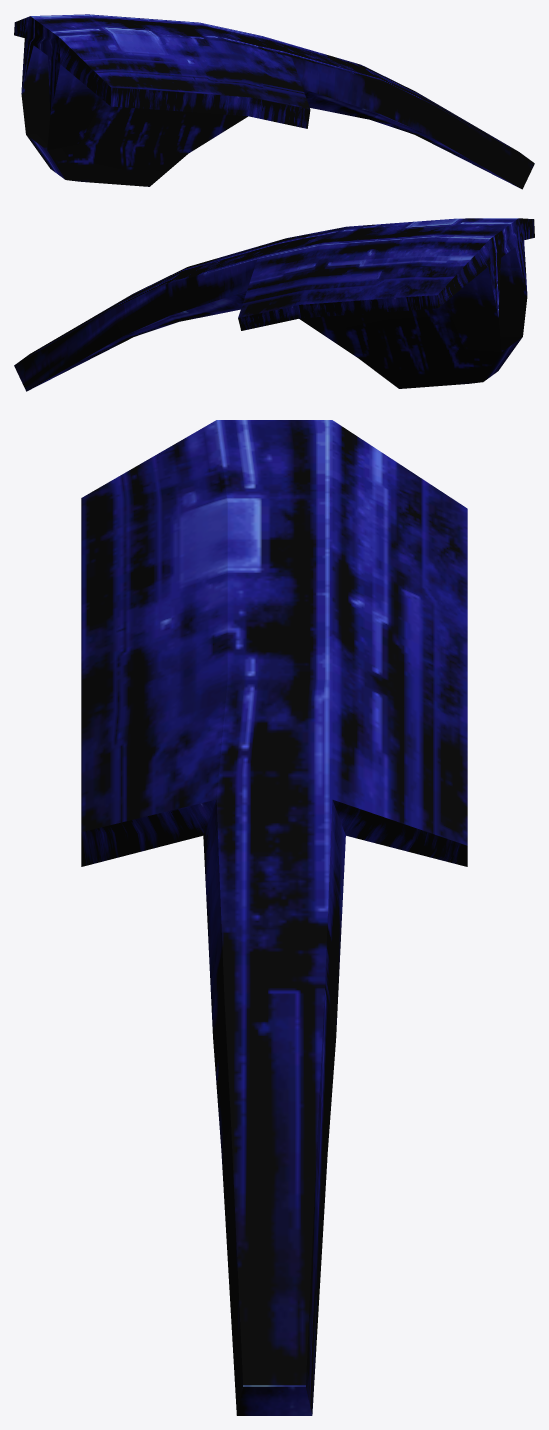
The model's file is sin_mesh_right.dae.
3 views of the same model, one above another, from view 1: azimuth 30°, elevation 25°; view 2: azimuth 150°, elevation 25°; view 3: azimuth 270°, elevation 25° (orthographic). The views are drawn at different scales.
Parts seen in each view (by area): view 1: MULT[Root_mesh]_LOD[0]; view 2: MULT[Root_mesh]_LOD[0]; view 3: MULT[Root_mesh]_LOD[0].
Part boxes in pixels (x1,y1,x2,y2): MULT[Root_mesh]_LOD[0]: (14,14,534,189); MULT[Root_mesh]_LOD[0]: (14,218,534,391); MULT[Root_mesh]_LOD[0]: (81,420,467,1415).
Size of the model in its own units: 1879 by 988 by 641.
Materials: 1 (1 with a texture image).
